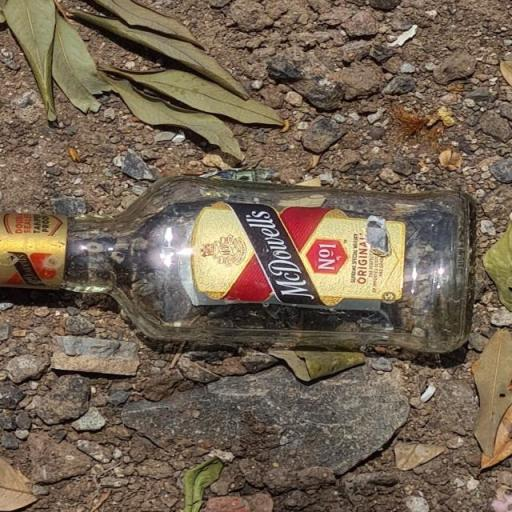glass: (0, 141, 493, 365)
